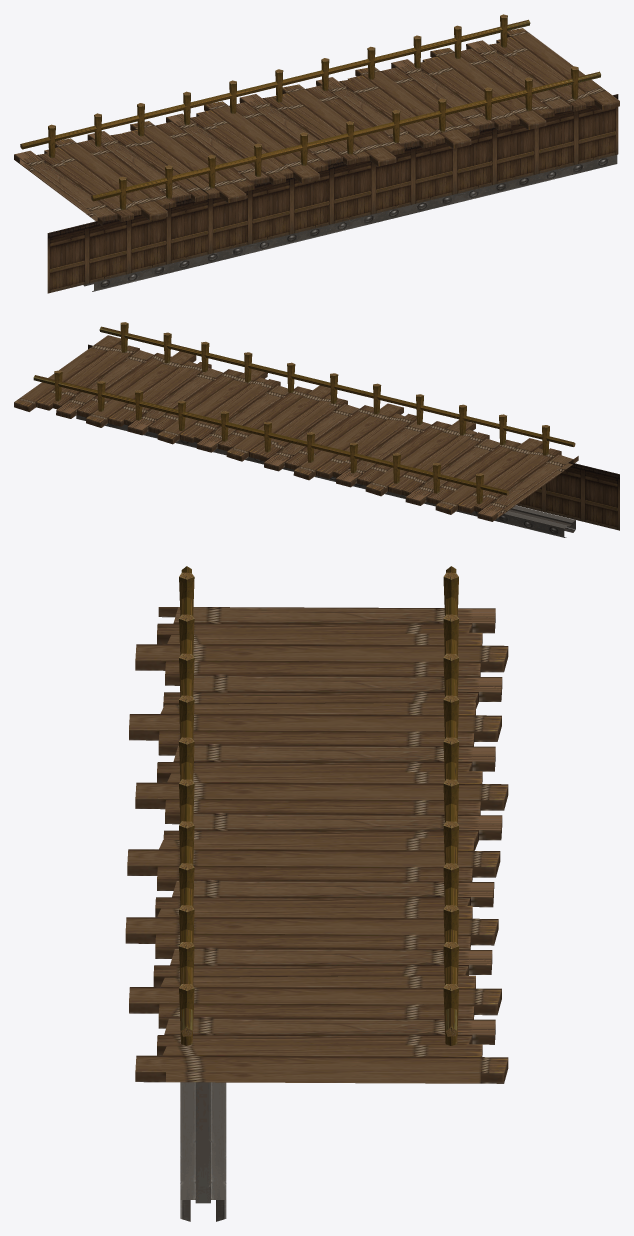
Rendered from Item_3001_dimianwujian_menlan.FBX.
The picture shows the model from 3 angles, top to bottom: view 1: azimuth 30°, elevation 25°; view 2: azimuth 150°, elevation 25°; view 3: azimuth 270°, elevation 25°; orthographic projection. The views are drawn at different scales.
Visible parts, largest first — view 1: Item_3001_dimianwujian_menlan; view 2: Item_3001_dimianwujian_menlan; view 3: Item_3001_dimianwujian_menlan.
Part boxes in pixels (x1,y1,x2,y2): Item_3001_dimianwujian_menlan: (14,14,619,293); Item_3001_dimianwujian_menlan: (14,322,619,537); Item_3001_dimianwujian_menlan: (125,566,508,1221).
Bounding box in the file's own units: 1215 × 216 × 379.
